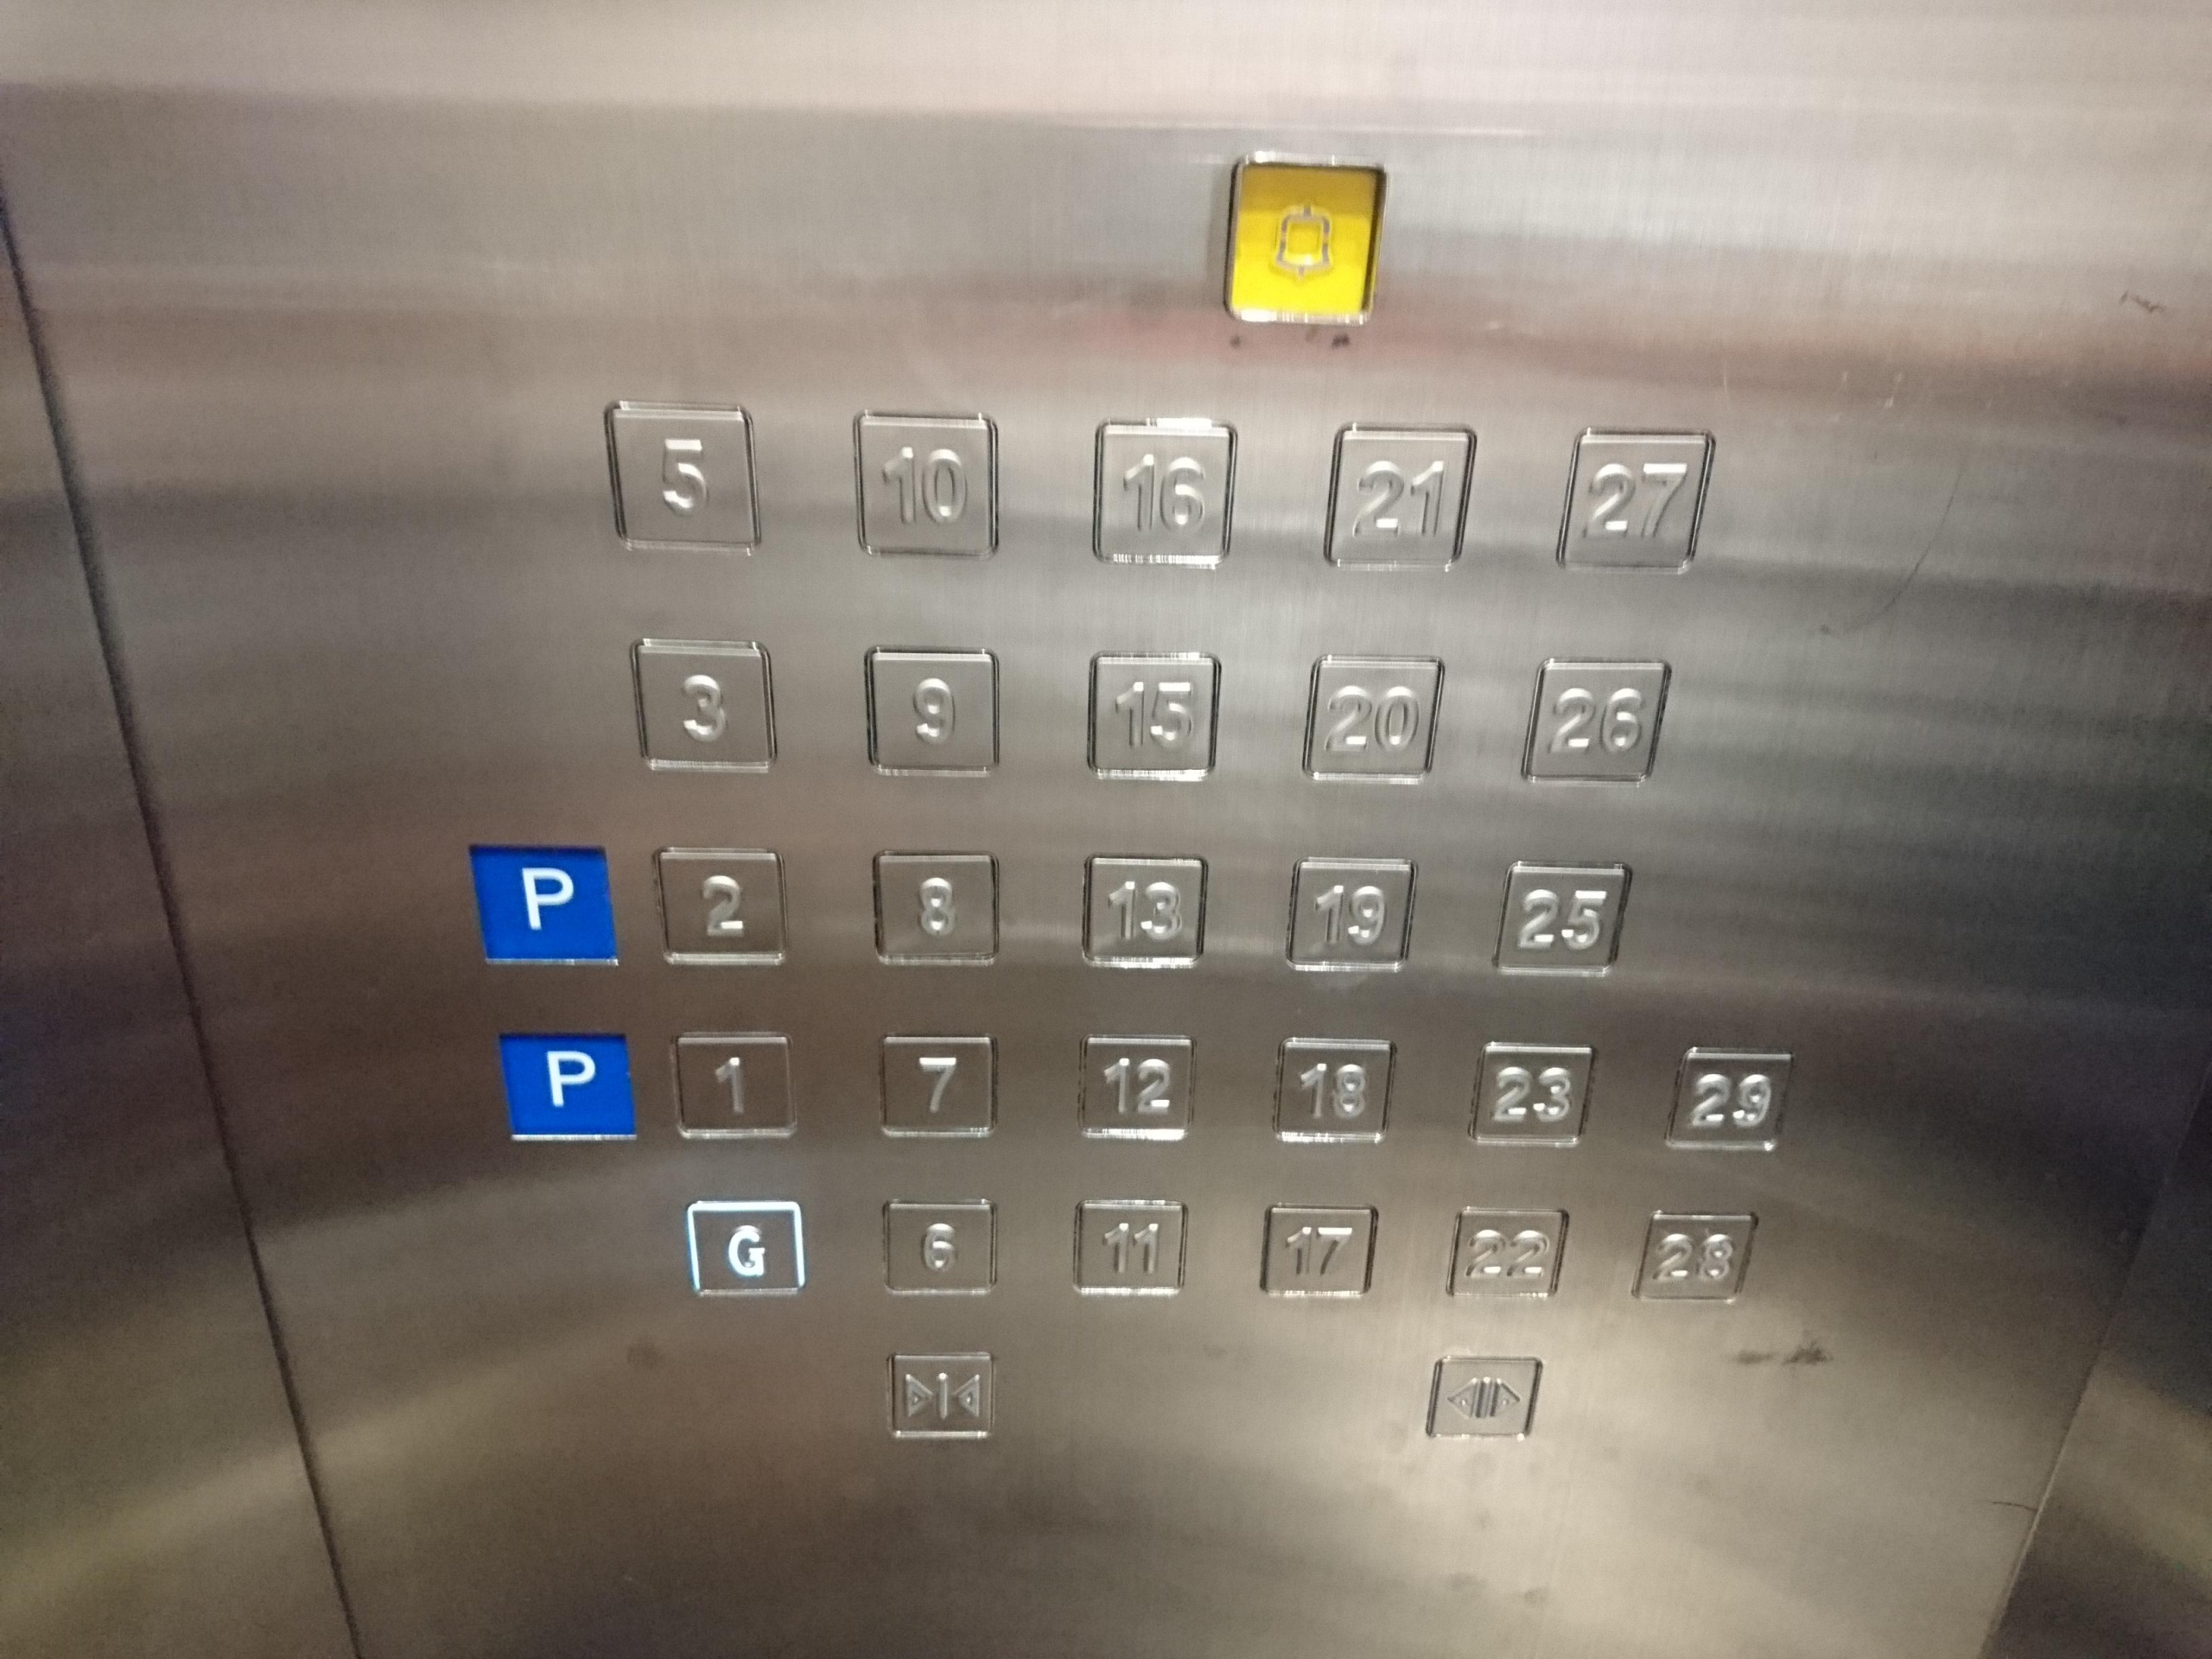1: (664, 1025, 805, 1143)
10: (846, 406, 1005, 563)
11: (1066, 1194, 1193, 1298)
12: (1071, 1030, 1205, 1145)
13: (1073, 847, 1214, 972)
15: (1078, 647, 1226, 788)
16: (1082, 415, 1244, 573)
17: (1259, 1201, 1381, 1305)
18: (1271, 1033, 1397, 1147)
19: (1282, 850, 1421, 974)
2: (651, 842, 789, 965)
20: (1296, 650, 1451, 789)
21: (1315, 423, 1486, 579)
22: (1442, 1208, 1569, 1300)
23: (1468, 1033, 1599, 1147)
25: (1494, 857, 1632, 981)
26: (1512, 653, 1674, 793)
27: (1547, 423, 1719, 579)
28: (1634, 1211, 1757, 1305)
29: (1667, 1042, 1796, 1159)
3: (627, 633, 784, 777)
5: (601, 396, 765, 554)
6: (878, 1194, 1005, 1297)
7: (878, 1030, 1001, 1141)
8: (867, 845, 1007, 971)
9: (862, 641, 1003, 775)
G: (679, 1199, 813, 1297)
P: (467, 836, 624, 967), (491, 1026, 641, 1141)
alarm: (1219, 152, 1392, 328)
close: (883, 1345, 998, 1445)
open: (1416, 1351, 1545, 1445)
